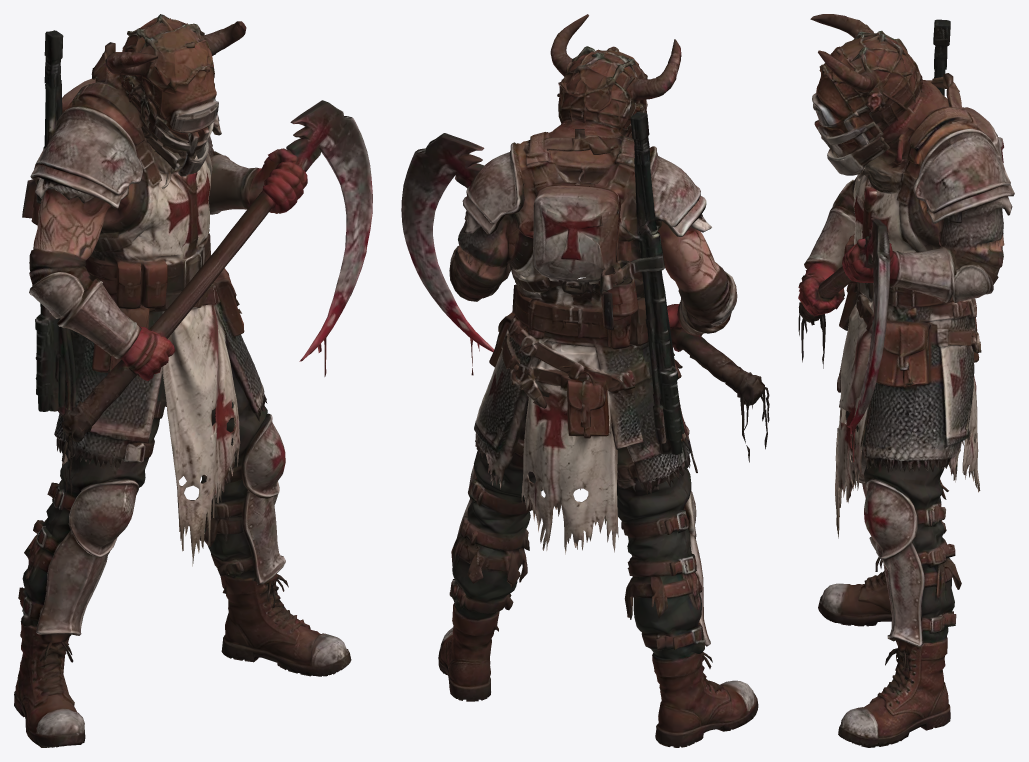
File: tagilla-2-knight.glb
The picture shows the model from 3 angles, left to right: view 1: azimuth 30°, elevation 25°; view 2: azimuth 150°, elevation 25°; view 3: azimuth 270°, elevation 25°; orthographic projection. The views are drawn at different scales.
Parts seen in each view (by area): view 1: tripo_node_fa1e1331-d981-46a3-bbf6-80ba13b709e9; view 2: tripo_node_fa1e1331-d981-46a3-bbf6-80ba13b709e9; view 3: tripo_node_fa1e1331-d981-46a3-bbf6-80ba13b709e9.
Boxes of the visible parts, bbox=[...] form: tripo_node_fa1e1331-d981-46a3-bbf6-80ba13b709e9: bbox=[14, 14, 372, 747]; tripo_node_fa1e1331-d981-46a3-bbf6-80ba13b709e9: bbox=[401, 14, 769, 747]; tripo_node_fa1e1331-d981-46a3-bbf6-80ba13b709e9: bbox=[798, 14, 1014, 747].
Bounding box in the file's own units: 0.5225 × 0.9794 × 0.2999.
1 material, 1 textured.
